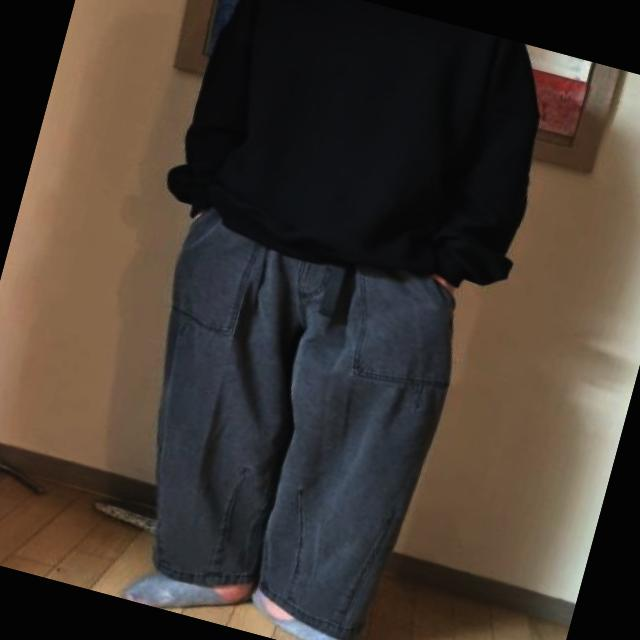denimpants: (98, 205, 478, 640)
mtm: (156, 0, 563, 307)
